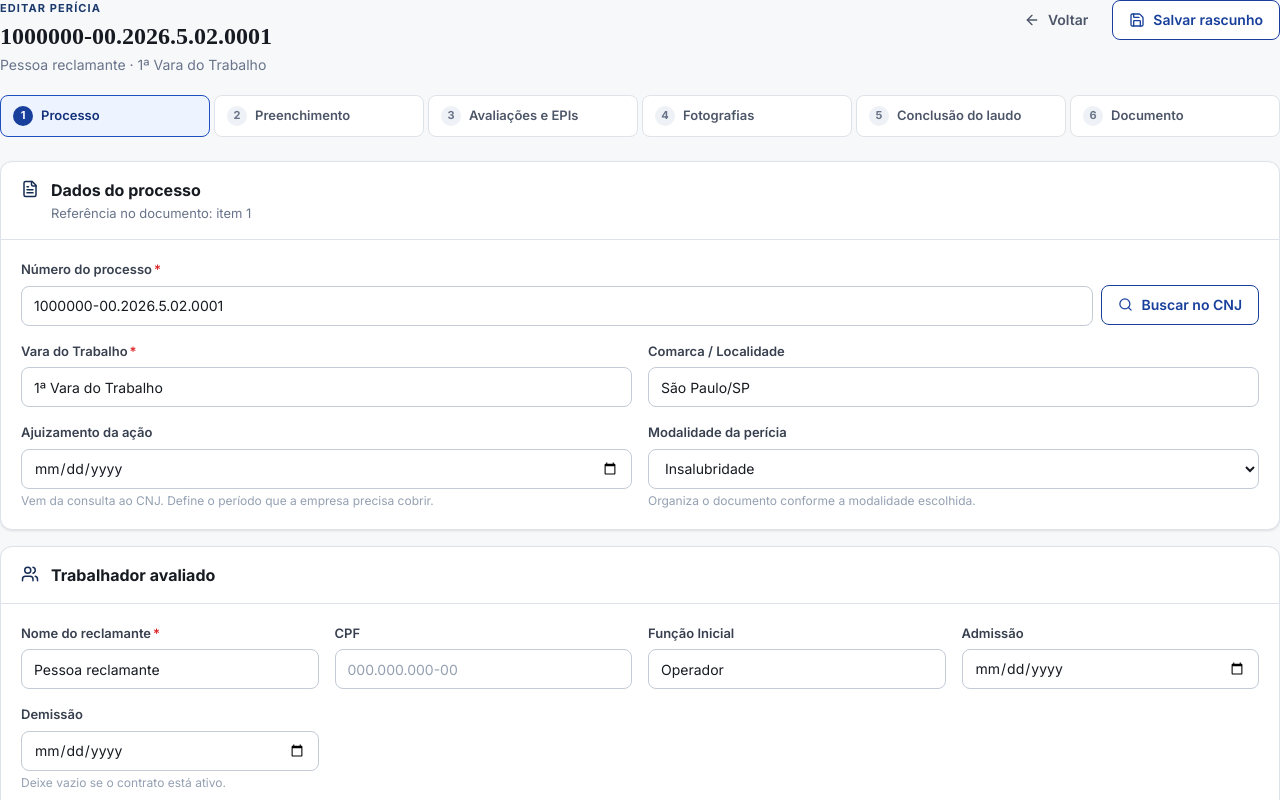
PericiaEditor — campo CAS do agente › avisa o dígito verificador errado sem bloquear o registro
Click the button "3 Avaliações e EPIs": (533, 116) 428,94 -> 638,136
(page scrolled)
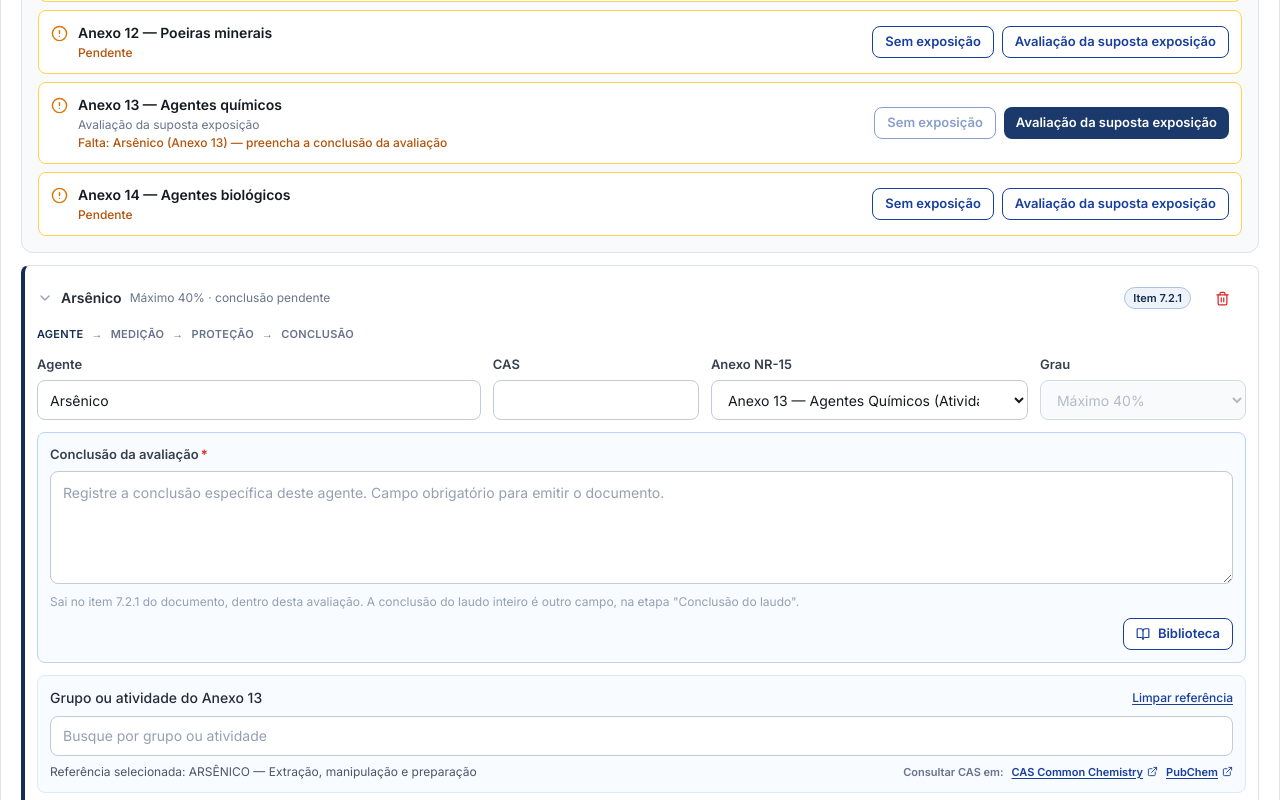
In the field labelled "CAS": (596, 400) 493,380 -> 699,420, type "1303-9"
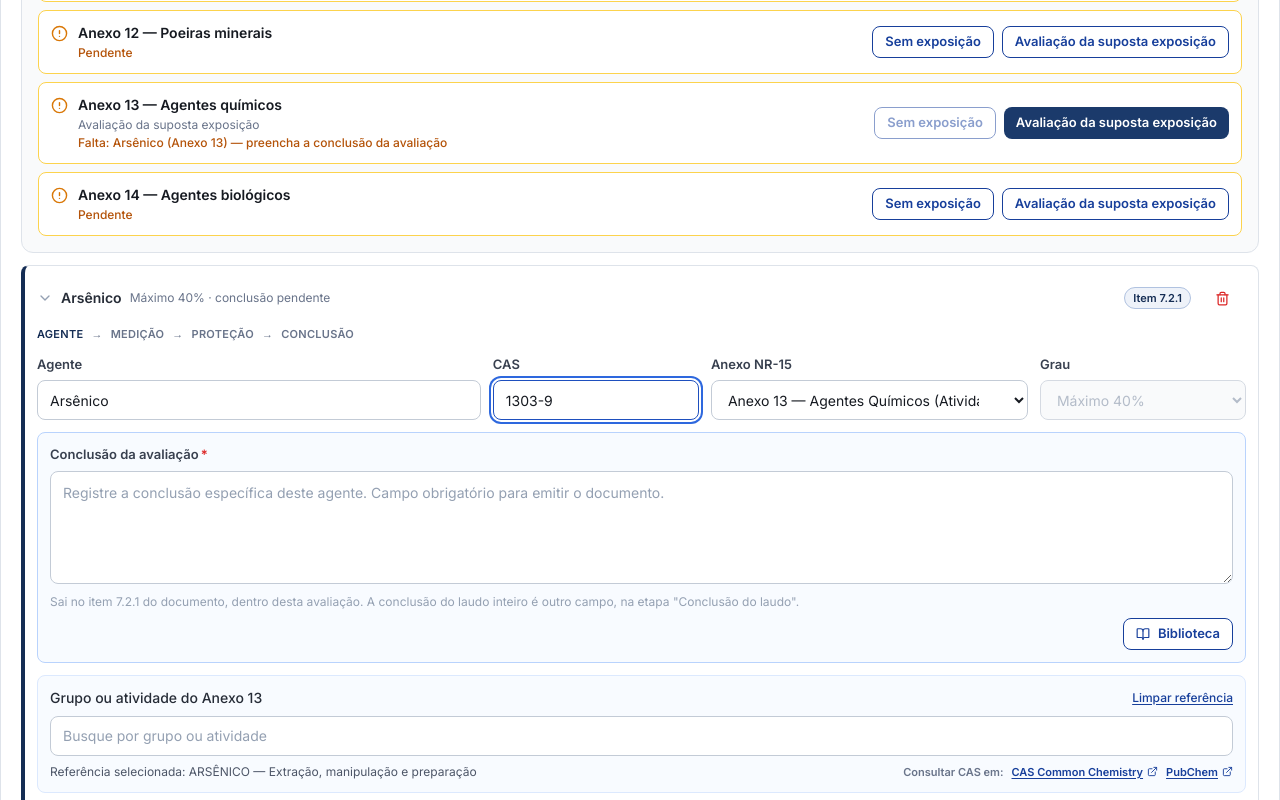
In the field labelled "CAS": (596, 400) 493,380 -> 699,420, type "6-5"
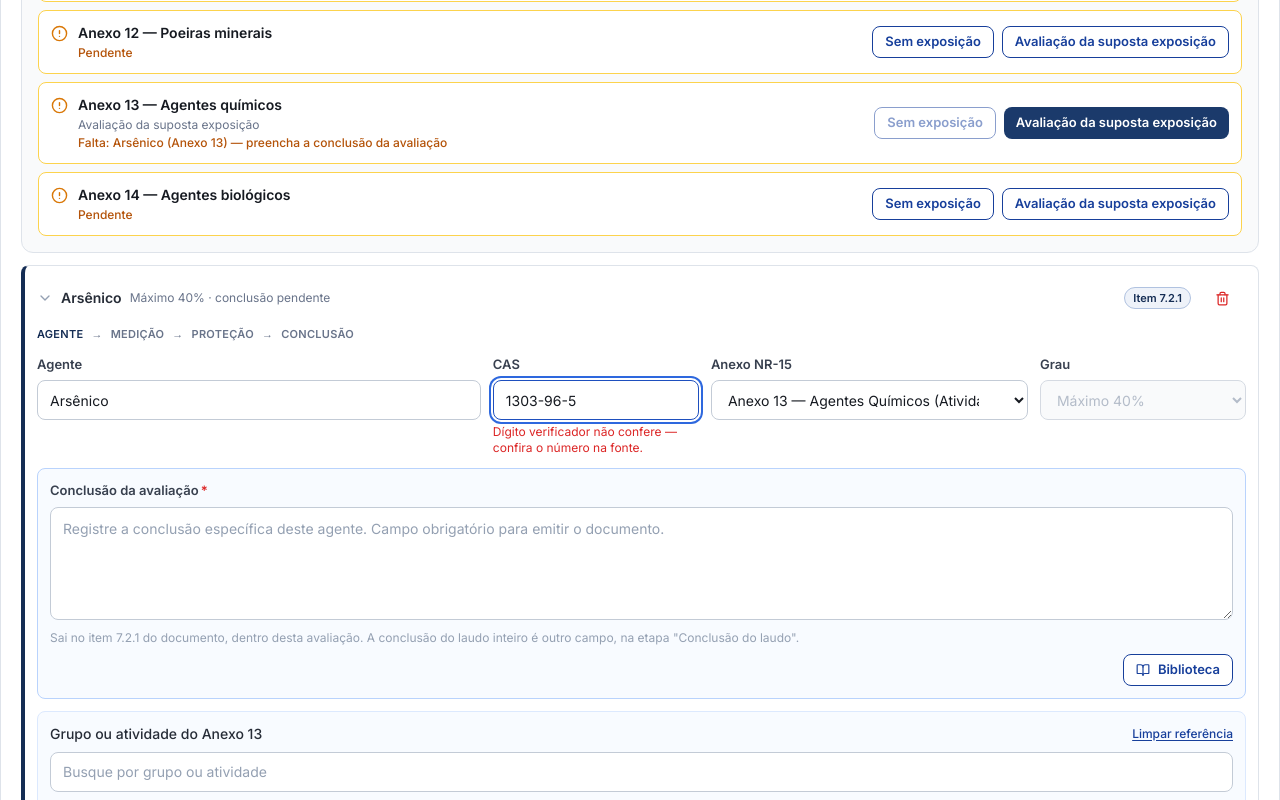
expect the field labelled "CAS" holds "1303-96-5": met, box 493,380 -> 699,420
expect the text "Dígito verificador não confere — confira o número na fonte." is shown: met, box 493,424 -> 699,456
